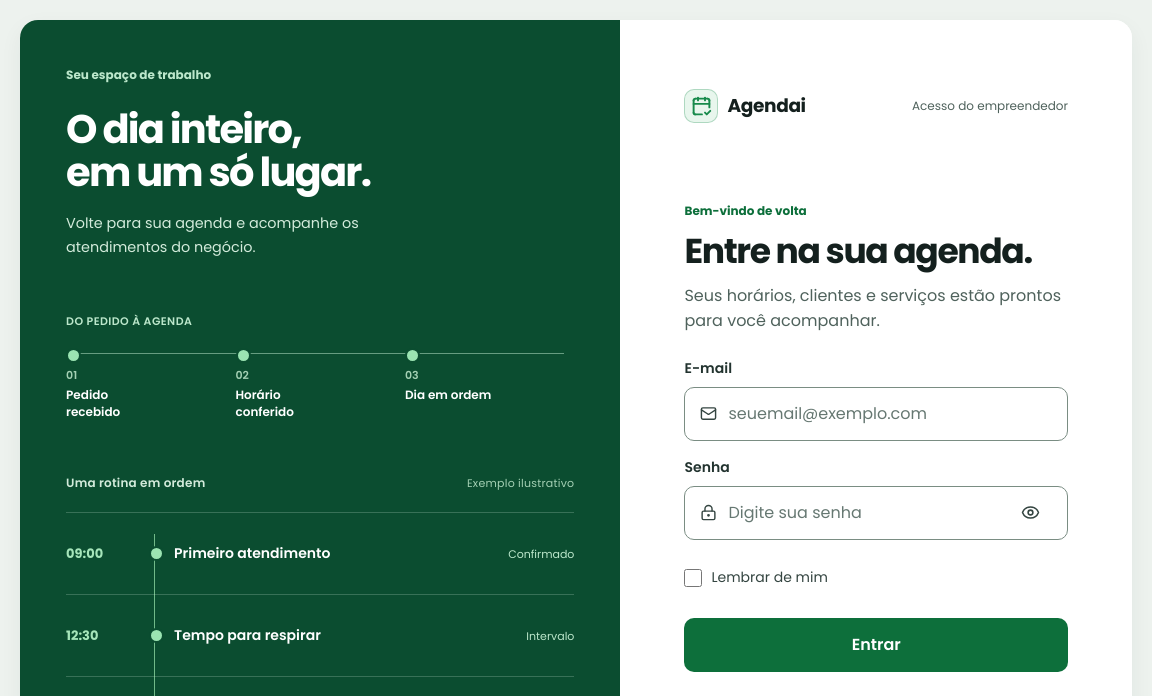
it: Login › explica credenciais invalidas sem expor a mensagem bruta da API
Type "pessoa@exemplo.com" into the field labelled "E-mail".
click(890, 414); type("pessoa@exemplo.com")  # box [728, 388, 1052, 440]
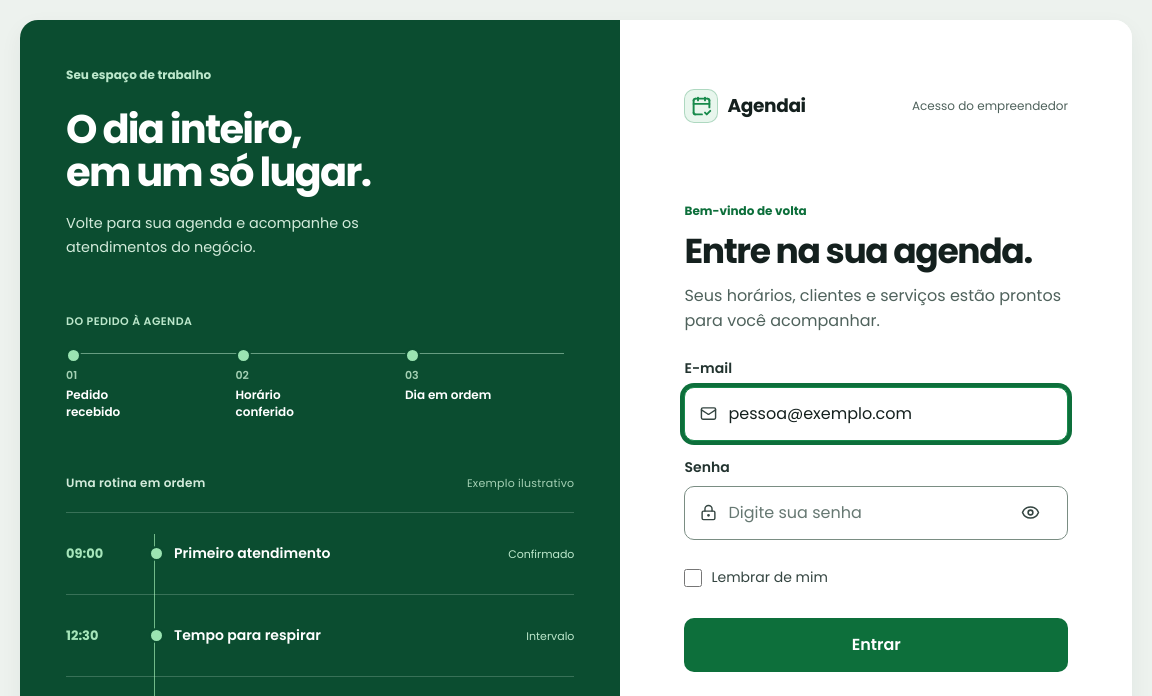
Type "senha-incorreta" into the password field labelled "Senha".
click(863, 513); type("senha-incorreta")  # box [728, 487, 997, 539]
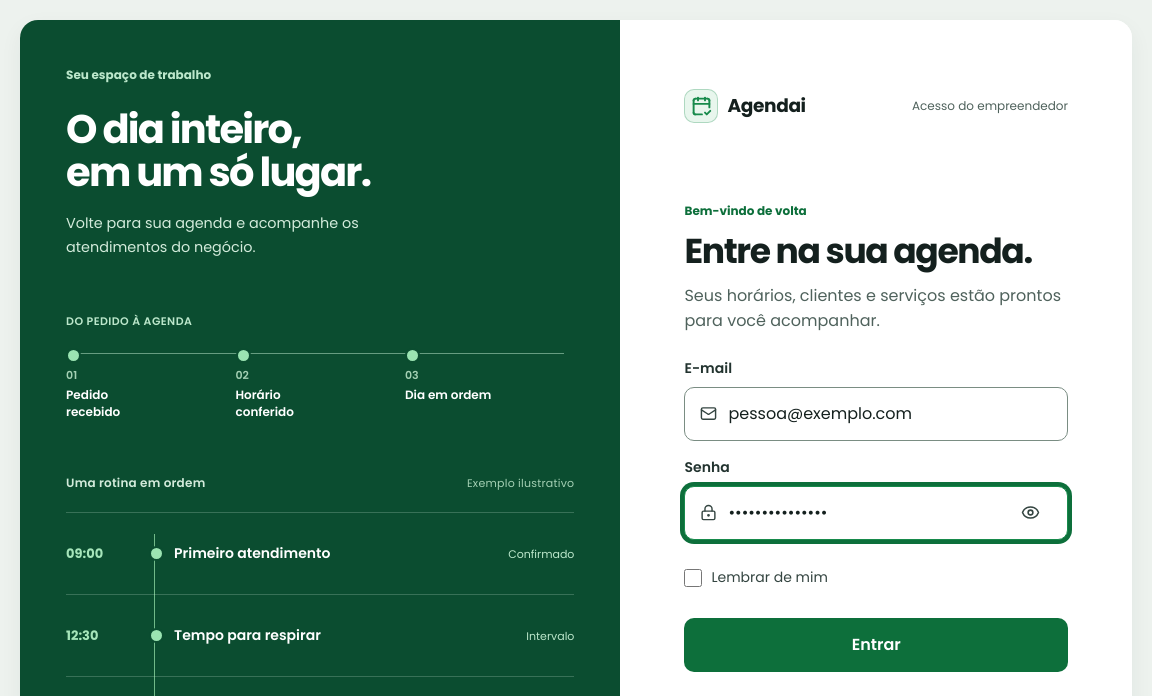
Click the button "Entrar".
click(876, 645)  # box [684, 618, 1068, 672]
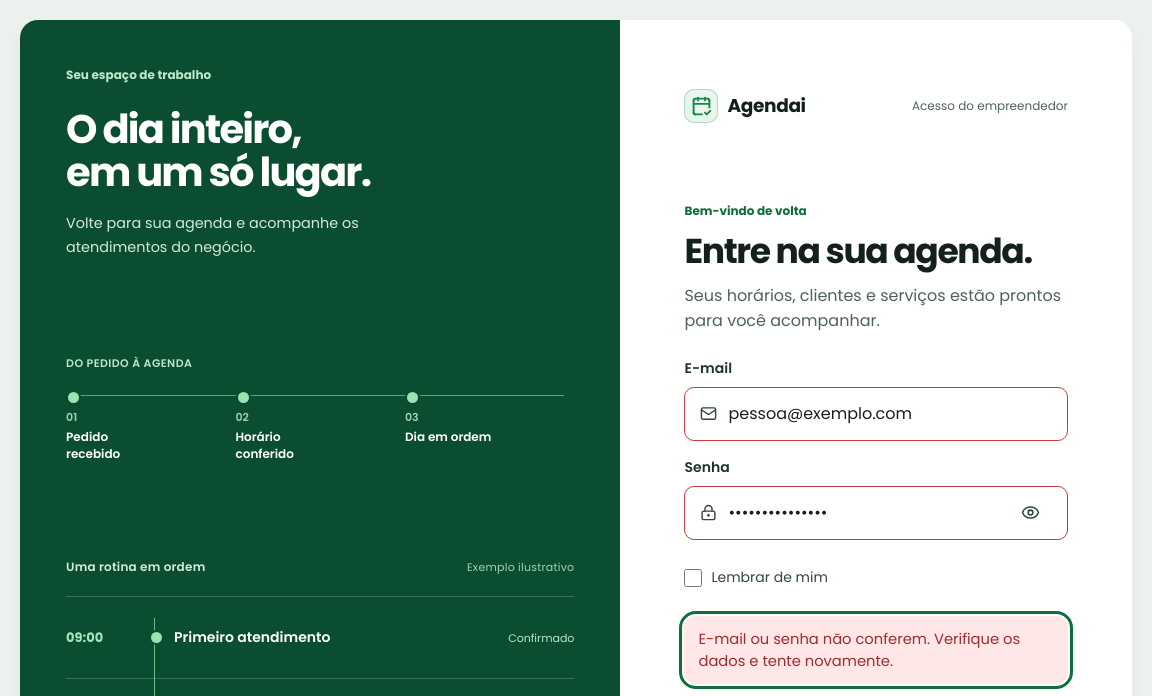
Now the message reads "E-mail ou senha não conferem. Verifique os dados e tente novamente.", box [698, 629, 1020, 671]
